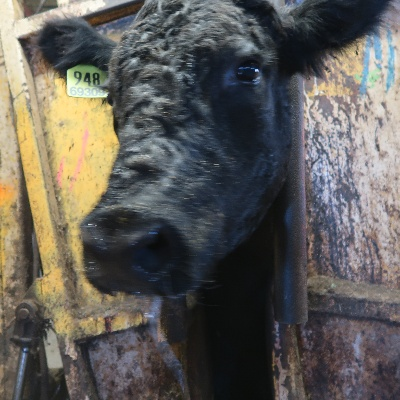fidget_spinner: (66, 207, 193, 291)
